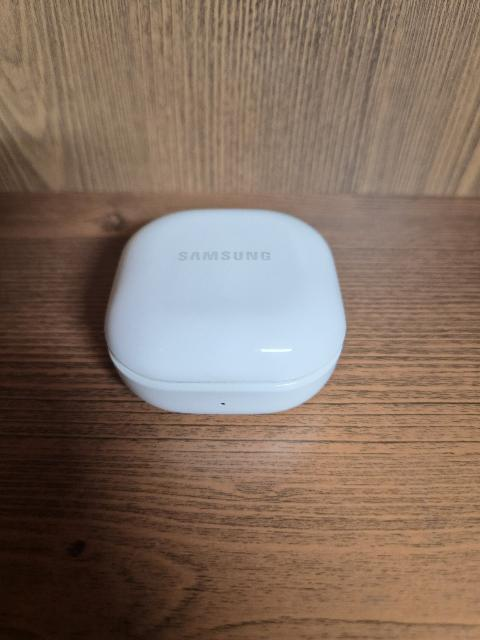earphone_case: (104, 208, 347, 415)
